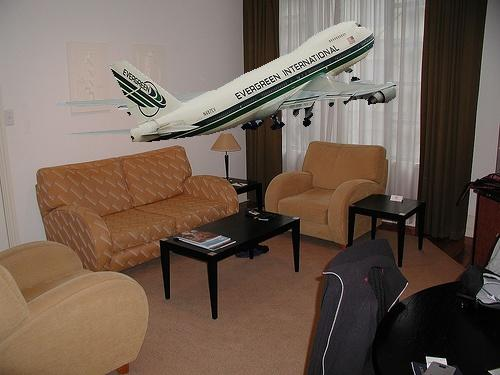tampered: (55, 22, 396, 142)
